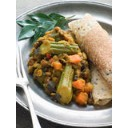dosa: (69, 13, 113, 105)
